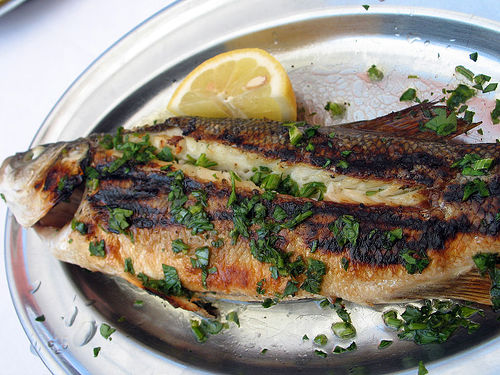fish: (0, 100, 499, 311)
